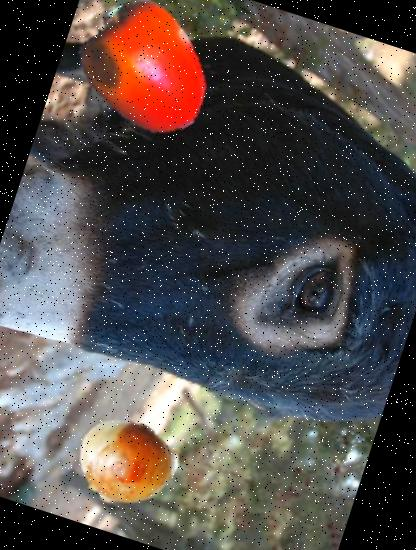Kaki: (58, 0, 233, 158)
Onion: (62, 400, 188, 526)
